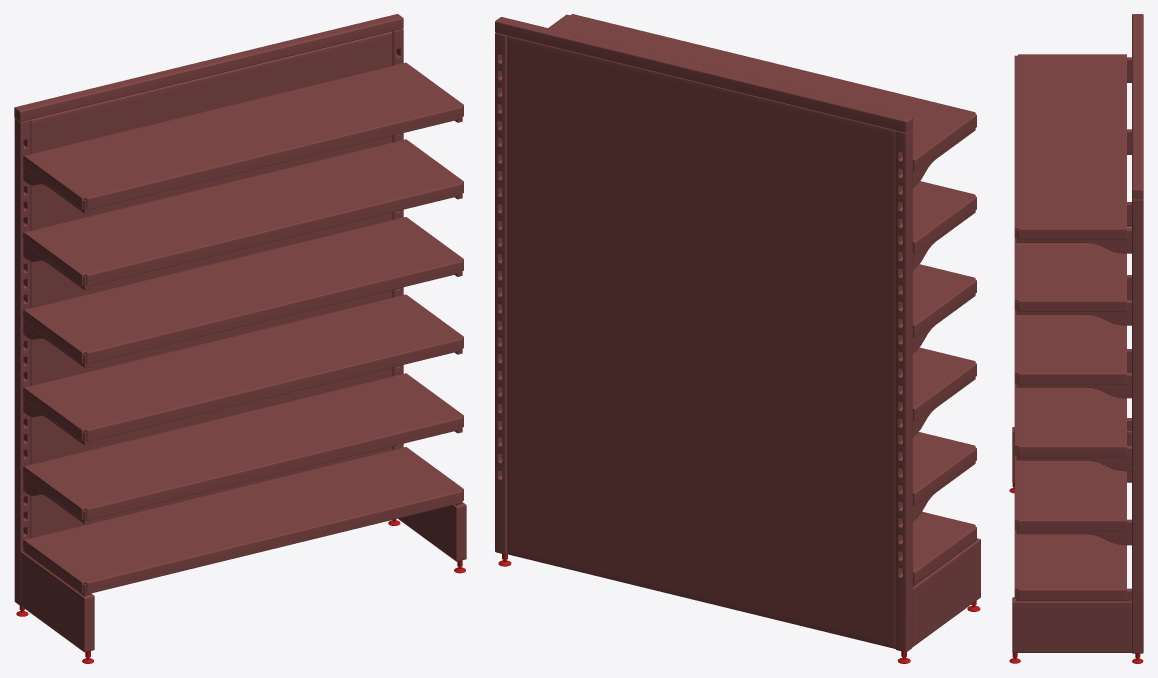
Rendered from retail_display_10.glb.
3 views of the same model, side by side, from view 1: azimuth 30°, elevation 25°; view 2: azimuth 150°, elevation 25°; view 3: azimuth 270°, elevation 25° (orthographic). The views are drawn at different scales.
Parts seen in each view (by area): view 1: board_mesh, shelf_003_mesh, shelf_005_mesh, shelf_001_mesh, shelf_002_mesh, shelf_006_mesh, shelf_004_mesh, bar_001_mesh, bar_002_mesh, bar_004_mesh, bar_005_mesh, bar_003_mesh; view 2: board_mesh, shelf_006_mesh, bar_001_mesh, bar_002_mesh, bar_003_mesh, bar_004_mesh, shelf_002_mesh, shelf_003_mesh, shelf_004_mesh, shelf_005_mesh, shelf_001_mesh; view 3: shelf_006_mesh, shelf_002_mesh, shelf_003_mesh, shelf_004_mesh, shelf_005_mesh, shelf_001_mesh, bar_005_mesh, bar_003_mesh, bar_002_mesh, arm_006_mesh, arm_008_mesh, arm_004_mesh (+4 smaller).
Part boxes in pixels (x1,y1,x2,y2): board_mesh: [30, 31, 392, 538]; shelf_003_mesh: [24, 294, 463, 441]; shelf_005_mesh: [24, 139, 463, 286]; shelf_001_mesh: [24, 447, 463, 594]; shelf_002_mesh: [24, 373, 463, 520]; shelf_006_mesh: [24, 62, 463, 209]; shelf_004_mesh: [24, 217, 463, 364]; bar_001_mesh: [14, 118, 30, 605]; bar_002_mesh: [14, 14, 403, 121]; bar_004_mesh: [20, 551, 94, 652]; bar_005_mesh: [398, 502, 466, 561]; bar_003_mesh: [392, 29, 403, 449]; board_mesh: [507, 36, 895, 648]; shelf_006_mesh: [548, 14, 976, 172]; bar_001_mesh: [895, 129, 912, 652]; bar_002_mesh: [495, 17, 912, 132]; bar_003_mesh: [495, 32, 507, 554]; bar_004_mesh: [912, 538, 980, 646]; shelf_002_mesh: [912, 432, 976, 505]; shelf_003_mesh: [912, 347, 976, 421]; shelf_004_mesh: [912, 264, 976, 337]; shelf_005_mesh: [912, 181, 976, 254]; shelf_001_mesh: [912, 511, 976, 584]; shelf_006_mesh: [1014, 54, 1126, 239]; shelf_002_mesh: [1014, 456, 1126, 531]; shelf_003_mesh: [1014, 383, 1126, 457]; shelf_004_mesh: [1014, 310, 1126, 384]; shelf_005_mesh: [1014, 238, 1126, 311]; shelf_001_mesh: [1014, 530, 1126, 600]; bar_005_mesh: [1012, 597, 1131, 652]; bar_003_mesh: [1132, 198, 1143, 653]; bar_002_mesh: [1132, 14, 1143, 199]; arm_006_mesh: [1016, 445, 1131, 471]; arm_008_mesh: [1016, 373, 1131, 398]; arm_004_mesh: [1016, 519, 1131, 545].
Bounding box in the file's own units: 161 × 203 × 51.96.
